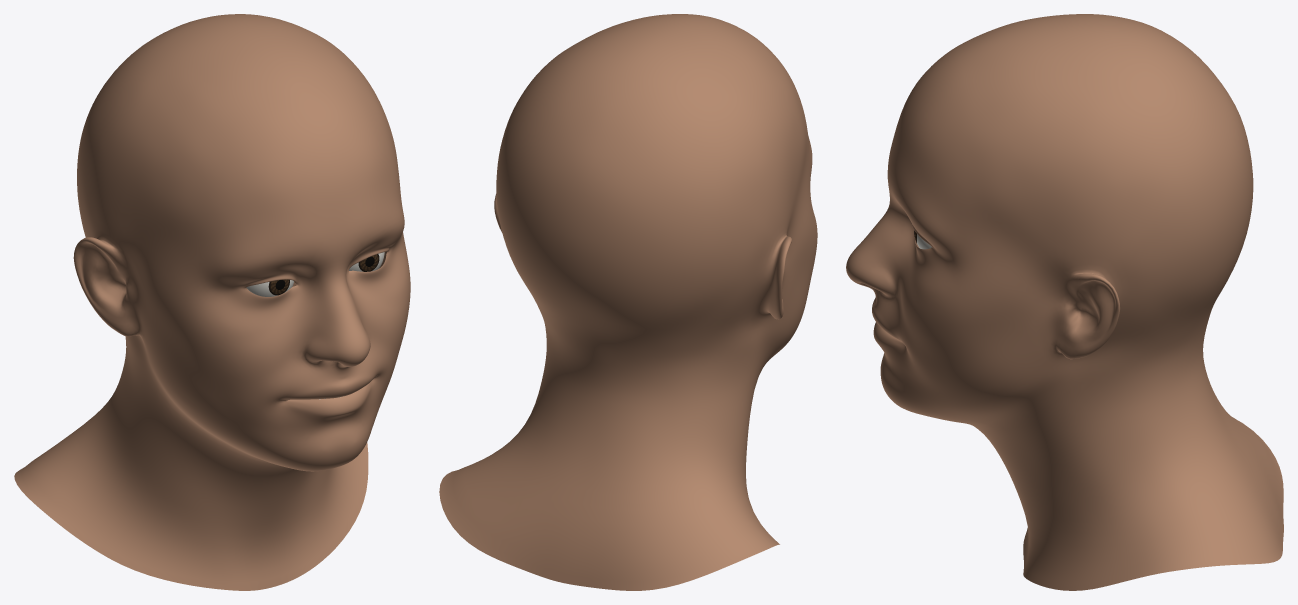
File: head-anatomy-uncompressed.glb
3 renders of one model, left to right at view 1: azimuth 30°, elevation 25°; view 2: azimuth 150°, elevation 25°; view 3: azimuth 270°, elevation 25°, orthographic. The views are drawn at different scales.
Parts seen in each view (by area): view 1: Ubaid_FaceBuilder_Head_Study, Eye.R; view 2: Ubaid_FaceBuilder_Head_Study; view 3: Ubaid_FaceBuilder_Head_Study.
Part boxes in pixels (left/top/right/bottom): Ubaid_FaceBuilder_Head_Study: left=14, top=14, right=410, bottom=590; Eye.R: left=246, top=279, right=293, bottom=296; Ubaid_FaceBuilder_Head_Study: left=439, top=14, right=817, bottom=590; Ubaid_FaceBuilder_Head_Study: left=846, top=14, right=1283, bottom=590.
Size of the model in its own units: 0.1915 by 0.2968 by 0.2195.
